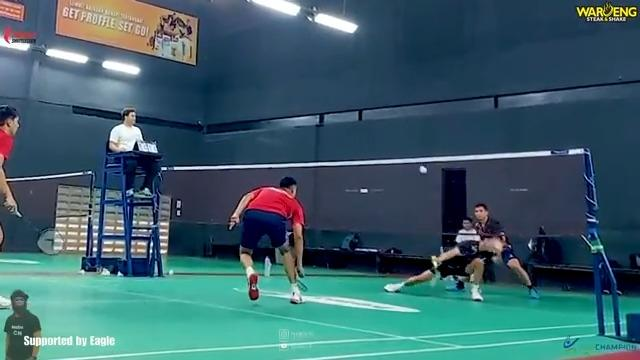Shuttlecock: (418, 164, 432, 176)
